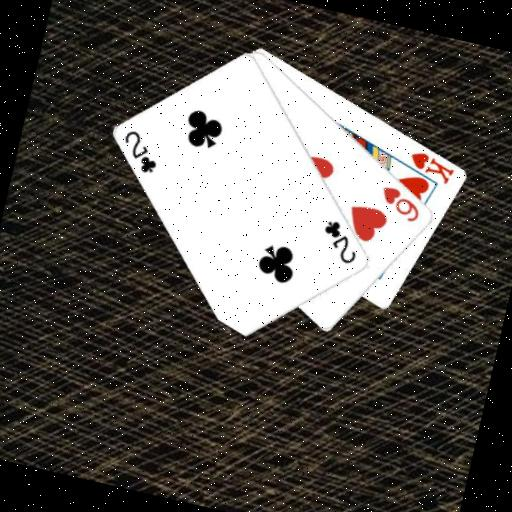2C: (315, 215, 366, 268), (115, 125, 166, 177)
6H: (374, 182, 426, 226)
KH: (404, 147, 459, 187)
